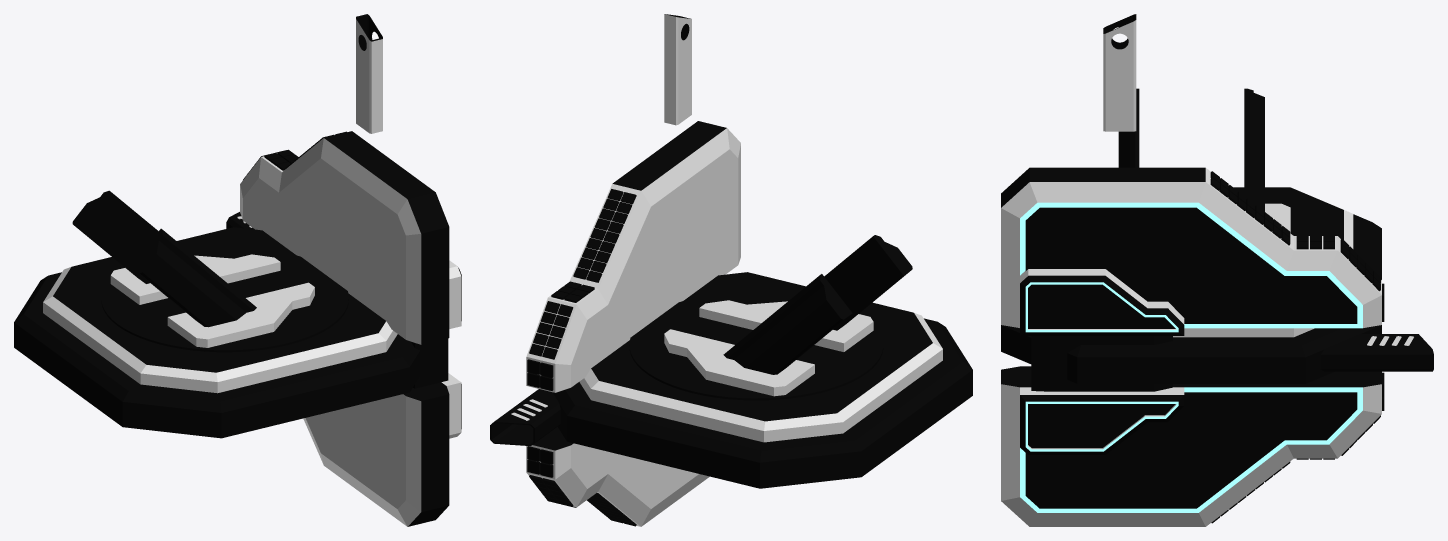
File: Tower-1-Mesh.fbx
The picture shows the model from 3 angles, left to right: view 1: azimuth 30°, elevation 25°; view 2: azimuth 150°, elevation 25°; view 3: azimuth 270°, elevation 25°; orthographic projection. The views are drawn at different scales.
Visible parts, largest first — view 1: t1tv6top, t1V6Base, t1v6rot, t1v6animPart; view 2: t1tv6top, t1V6Base, t1v6rot, t1v6animPart, t1v6gun; view 3: t1tv6top, t1V6Base, t1v6rot, t1v6gun, t1v6animPart.
Boxes of the visible parts, x1,y1,x2,y2 form: t1tv6top: (240,131,461,526); t1V6Base: (14,227,420,438); t1v6rot: (72,190,348,352); t1v6animPart: (356,14,382,133); t1tv6top: (526,121,740,526); t1V6Base: (552,272,972,488); t1v6rot: (629,235,912,400); t1v6animPart: (664,14,691,125); t1v6gun: (490,389,560,445); t1tv6top: (1001,167,1384,526); t1V6Base: (1001,187,1381,383); t1v6rot: (1118,88,1316,235); t1v6gun: (1320,334,1433,371); t1v6animPart: (1103,14,1136,131).
Size of the model in its own units: 2.27 by 2.88 by 2.01.
